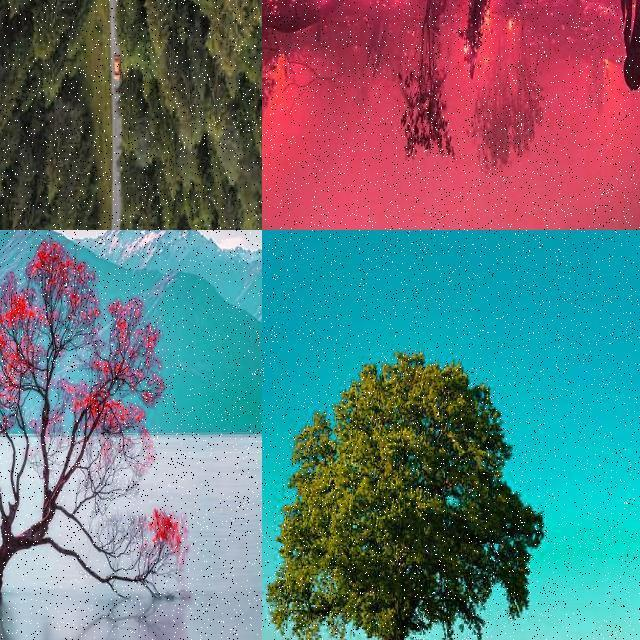tree: (275, 340, 543, 640), (0, 230, 192, 598), (402, 0, 454, 158), (472, 8, 512, 175), (504, 12, 544, 160), (26, 0, 90, 60), (44, 101, 80, 200), (262, 23, 294, 116), (180, 0, 238, 46), (142, 0, 202, 40), (57, 0, 99, 46), (130, 0, 172, 42), (0, 0, 28, 62), (222, 0, 262, 42), (4, 1, 44, 40), (38, 55, 66, 109), (586, 53, 610, 115), (242, 157, 262, 230), (218, 0, 254, 40), (142, 0, 174, 44), (220, 132, 244, 188), (0, 59, 16, 143), (192, 0, 248, 24), (171, 0, 213, 32), (10, 162, 32, 222), (1, 154, 16, 230), (192, 46, 212, 100), (18, 138, 40, 186), (0, 123, 20, 175), (180, 142, 200, 194), (0, 95, 14, 162), (2, 0, 34, 26), (70, 190, 90, 230), (0, 144, 12, 208), (0, 150, 12, 213), (136, 0, 172, 20), (262, 24, 272, 94), (176, 1, 192, 44), (220, 196, 240, 230), (159, 193, 177, 230), (10, 0, 32, 28), (234, 1, 262, 23), (136, 202, 156, 230), (122, 0, 142, 28), (0, 188, 10, 230), (22, 0, 42, 20), (140, 72, 152, 104)
